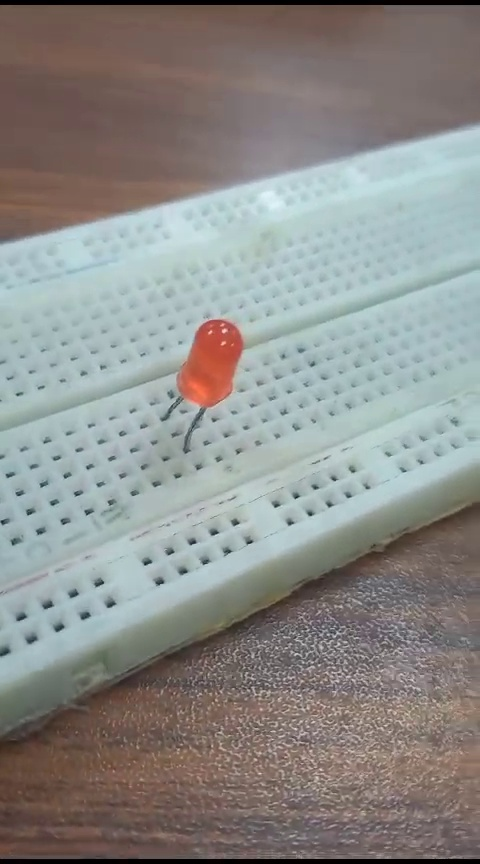LED: (167, 319, 242, 447)
